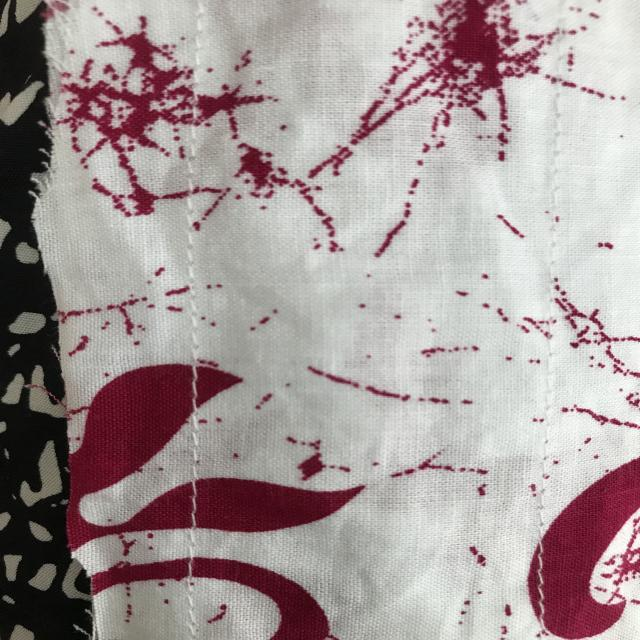good: (164, 115, 219, 238), (177, 376, 213, 550)
